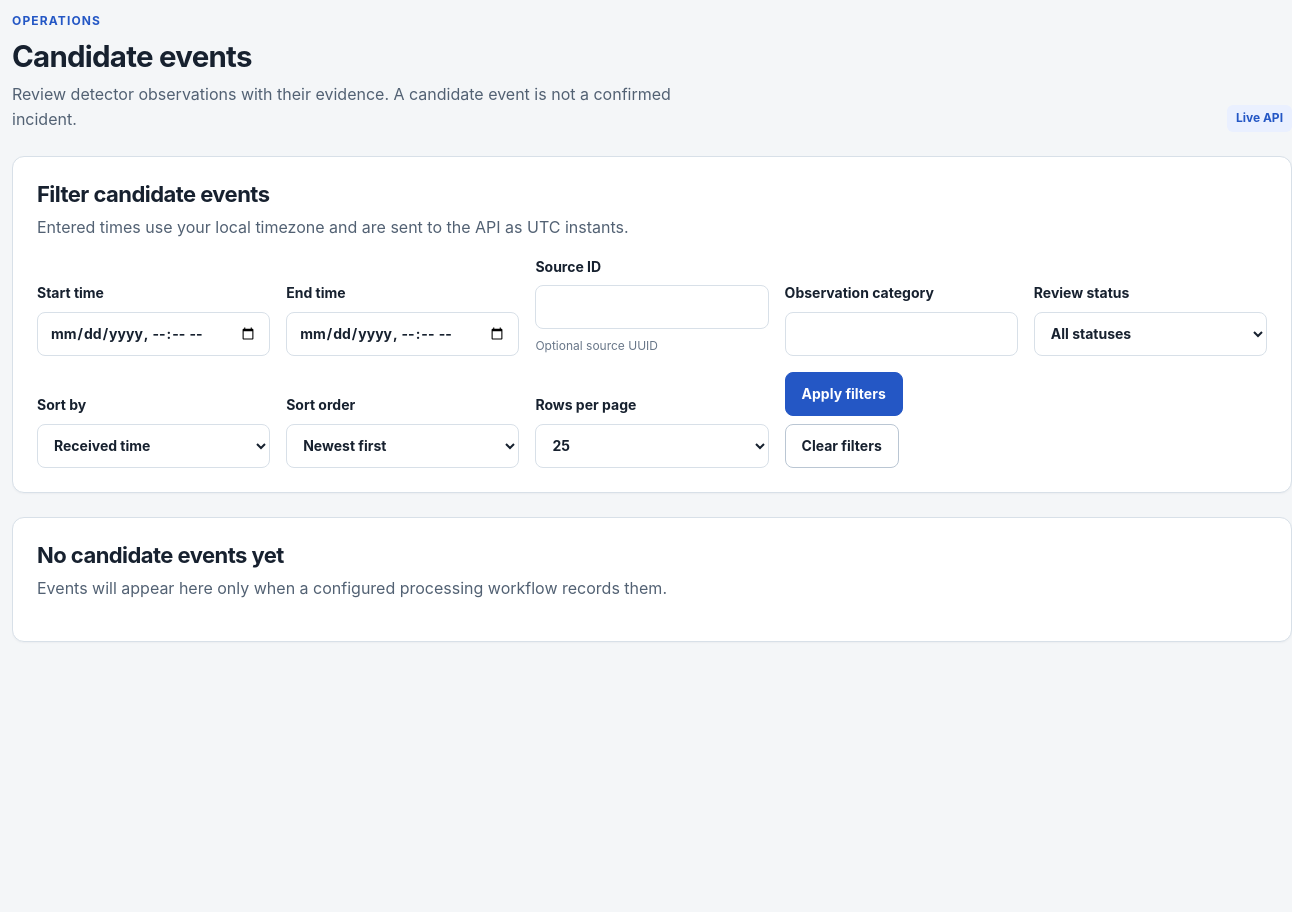
Test: IncidentsPage › prevents applying an inverted time range
This screenshot has width=1292, height=912.
Expected: the heading "No candidate events yet" is shown, [37,542,284,568]
Type "2026-10-20T12:00" into the field labelled "Start time" at (154, 334), box [37,312,270,356]
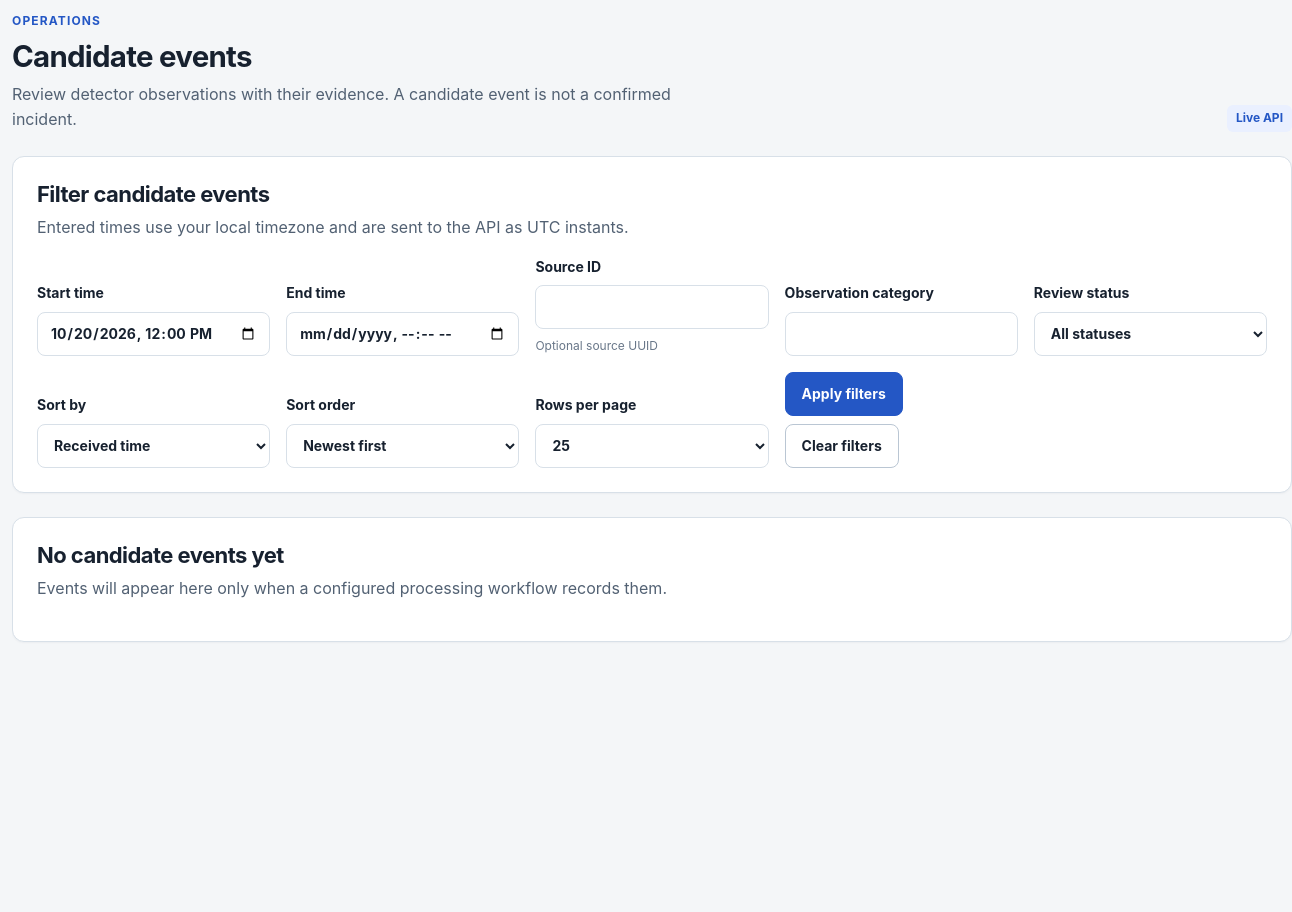
Type "2026-10-20T10:00" into the field labelled "End time" at (403, 334), box [286,312,519,356]
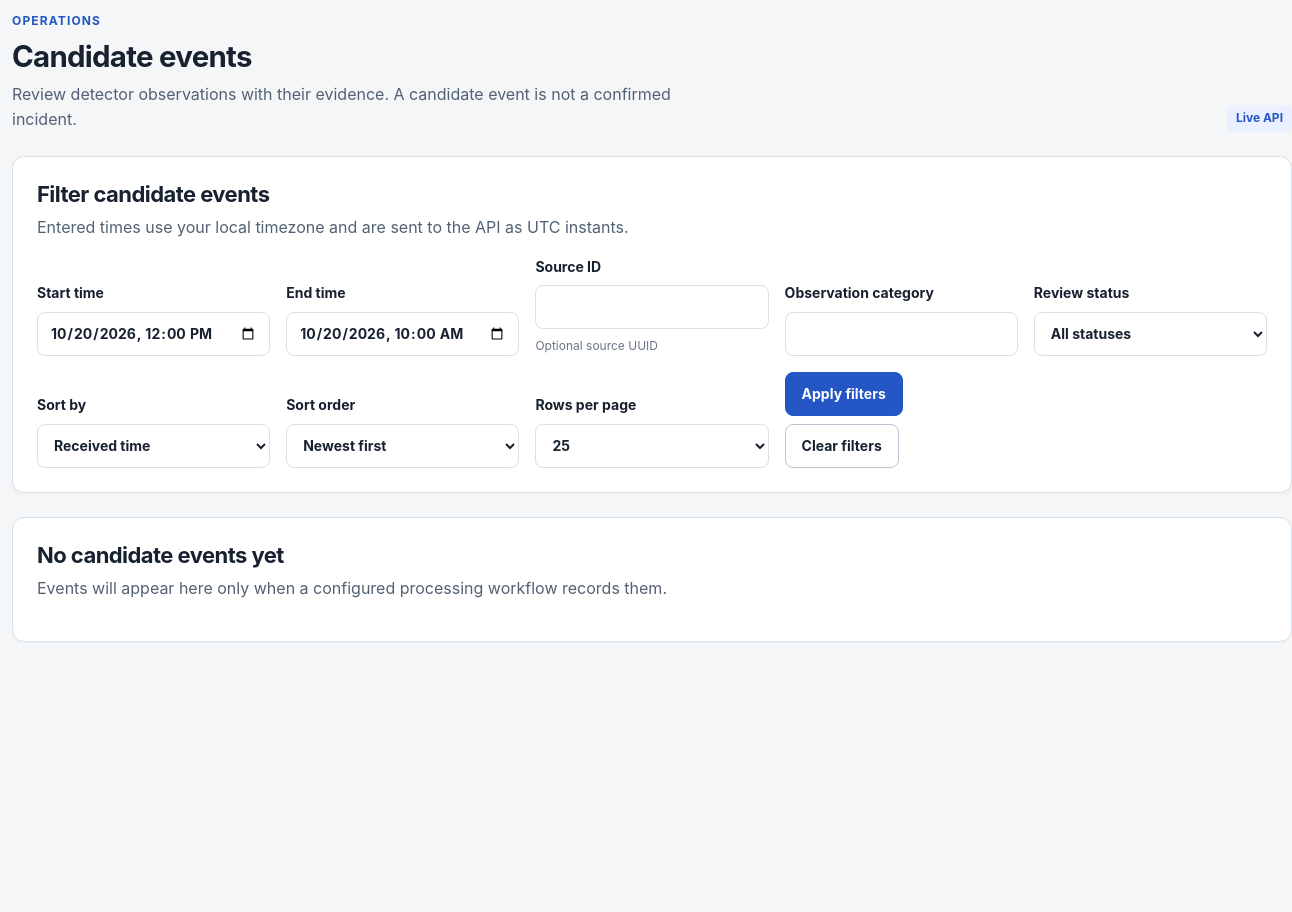
Click the button "Apply filters" at (844, 394), box [785,372,903,416]
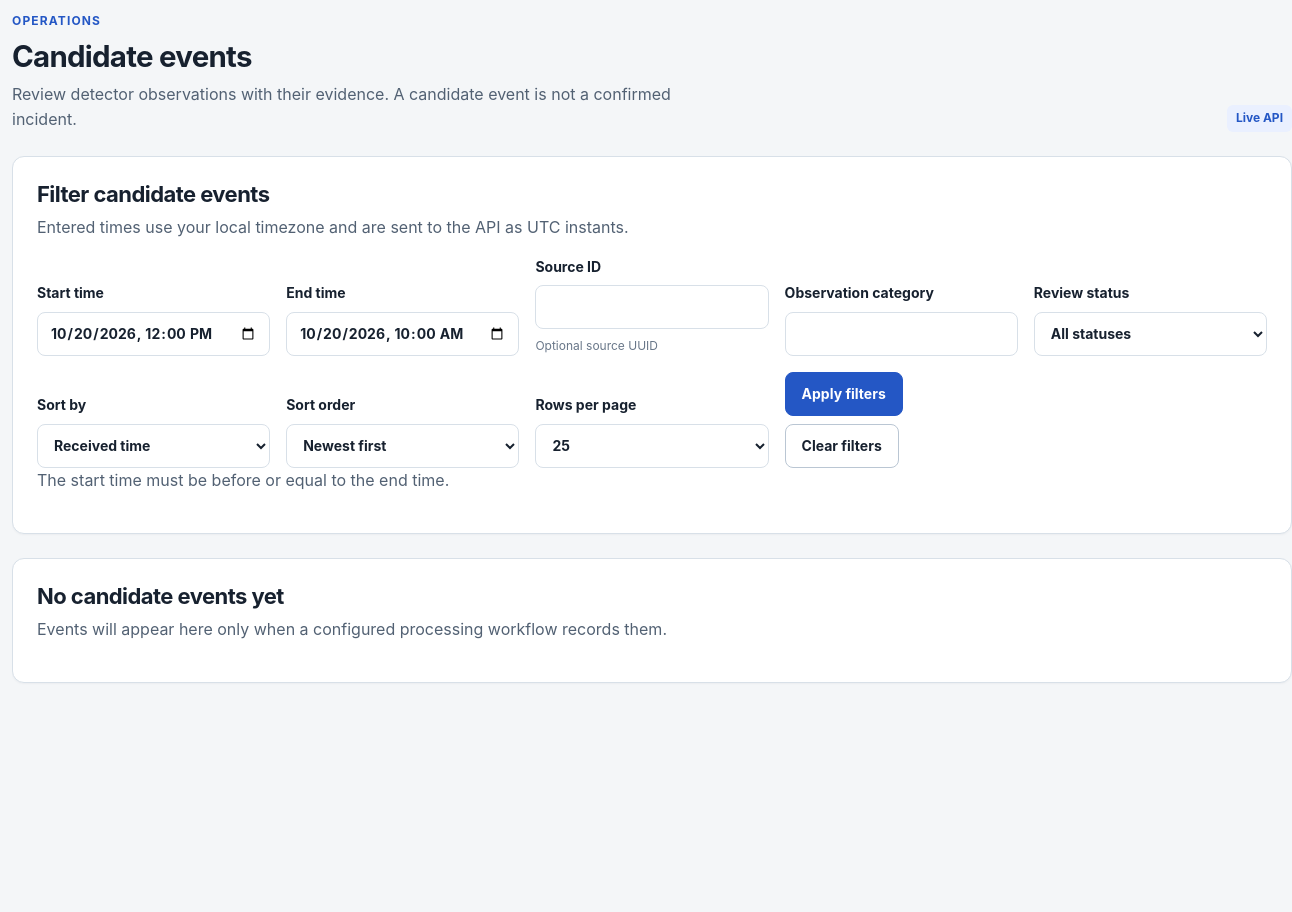
Now the message reads "The start time must be before or equal to the end time.", box [37,470,449,490]
